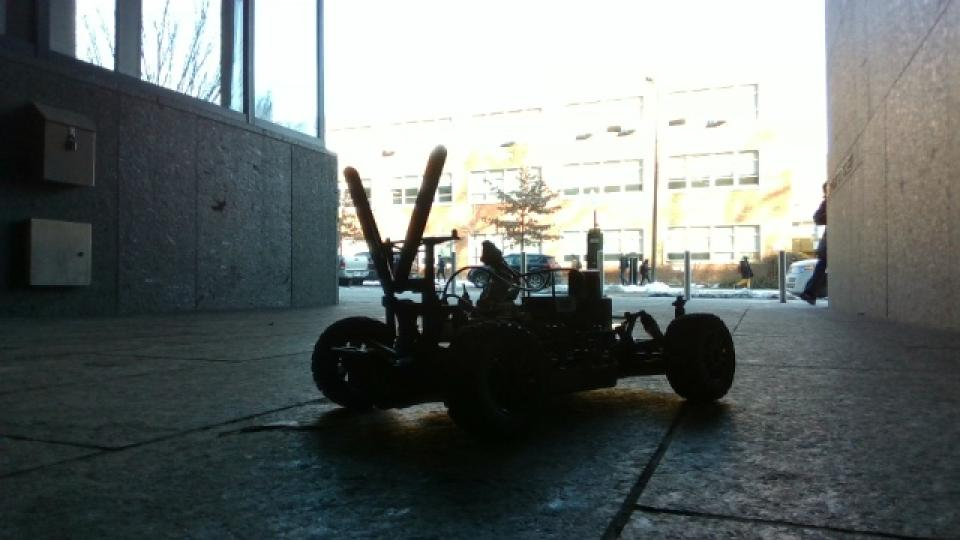car: (308, 142, 738, 440)
